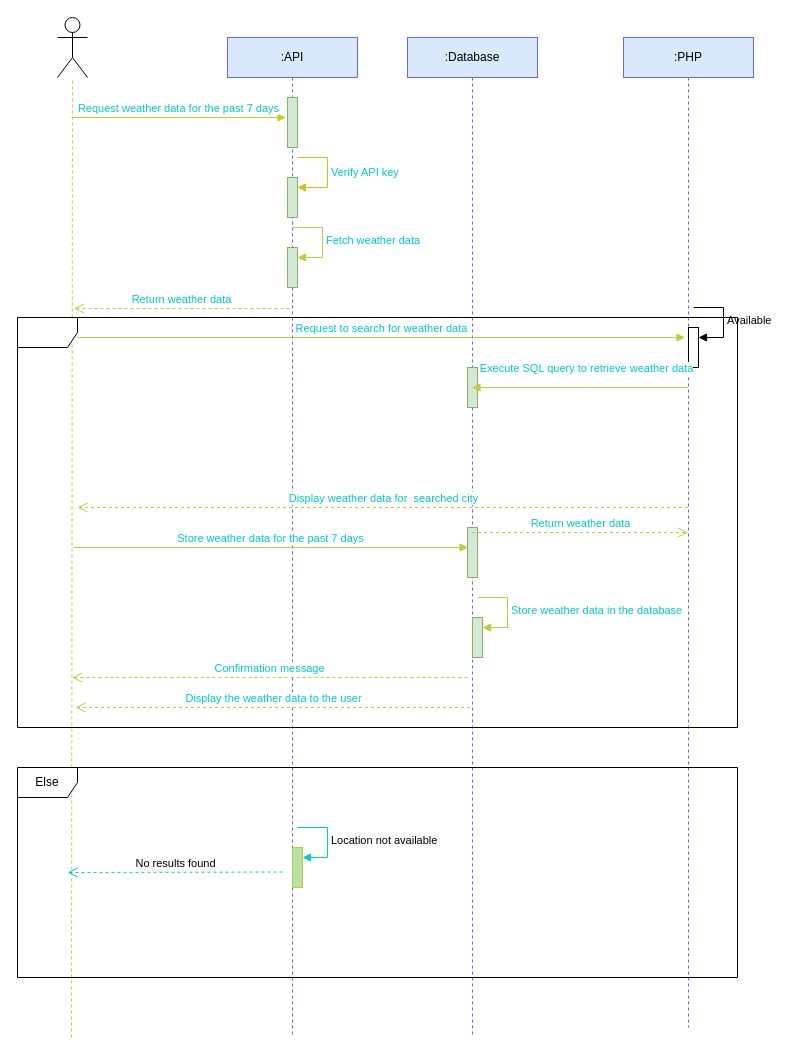
The diagram is 789 pixels wide and 1056 high, and some of its shapes have lost their labels. The centre of each missing label's shape, as x and y in pixels:
Actor: point 72,47
Alt: point 377,522
